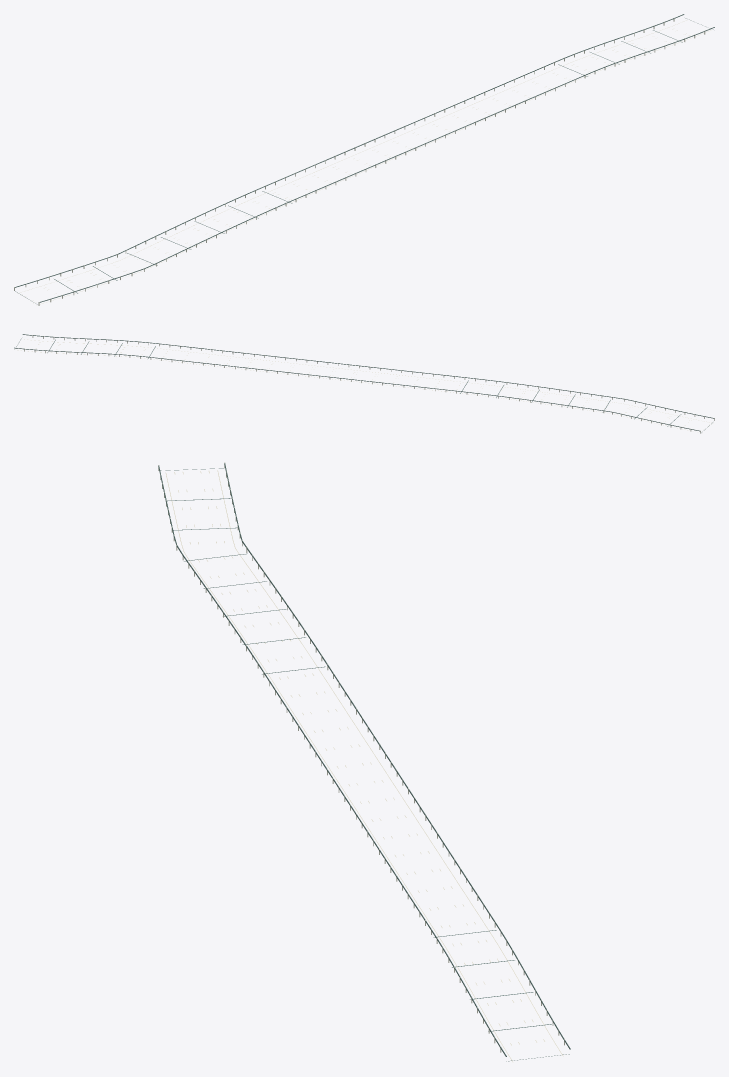
File: transport-0--2.glb
3 views of the same model, one above another, from view 1: azimuth 30°, elevation 25°; view 2: azimuth 150°, elevation 25°; view 3: azimuth 270°, elevation 25° (orthographic). The views are drawn at different scales.
Visible parts, largest first — view 1: RiverBridge_Details_yinghua-bridge; view 2: RiverBridge_Details_yinghua-bridge; view 3: RiverBridge_Details_yinghua-bridge.
Part boxes in pixels (x1,y1,x2,y2): RiverBridge_Details_yinghua-bridge: [14, 14, 714, 305]; RiverBridge_Details_yinghua-bridge: [14, 334, 714, 433]; RiverBridge_Details_yinghua-bridge: [158, 462, 570, 1061].
Bounding box in the file's own units: 8.91 × 0.131 × 2.62.
